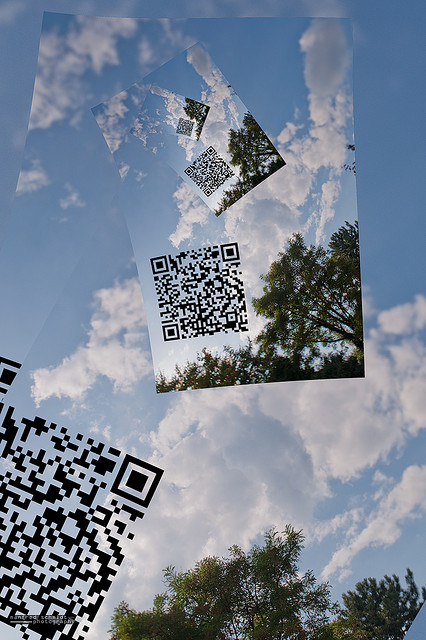QR-CODE: (0, 401, 164, 639), (149, 242, 248, 341), (184, 145, 235, 196), (176, 117, 194, 136)
